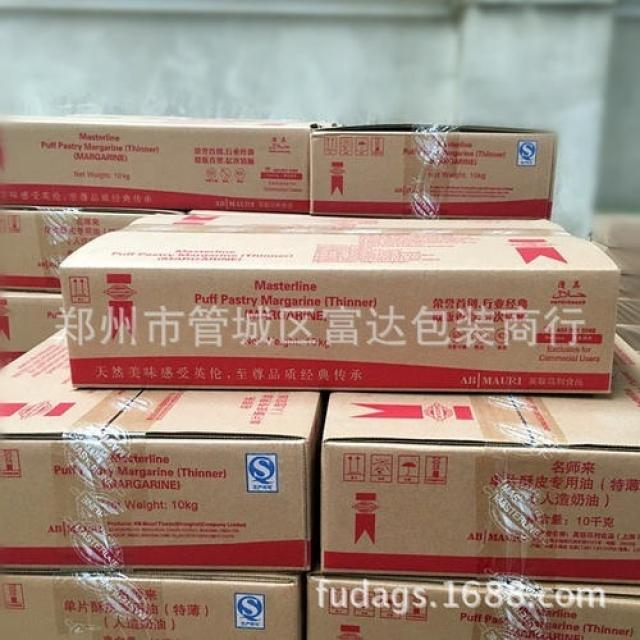box: (59, 215, 621, 393), (321, 332, 640, 584), (0, 324, 320, 570), (0, 113, 347, 214), (310, 124, 558, 218), (306, 571, 640, 640), (0, 570, 302, 640), (0, 205, 184, 292), (0, 289, 64, 369)
